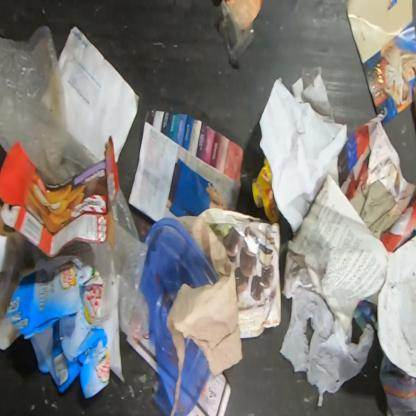cardboard: (0, 258, 110, 398), (0, 137, 119, 258), (128, 110, 244, 221), (199, 207, 282, 339)
rigid_plastic: (141, 218, 220, 415), (220, 1, 255, 66)
soft_plastic: (0, 25, 102, 191), (112, 185, 150, 338)
